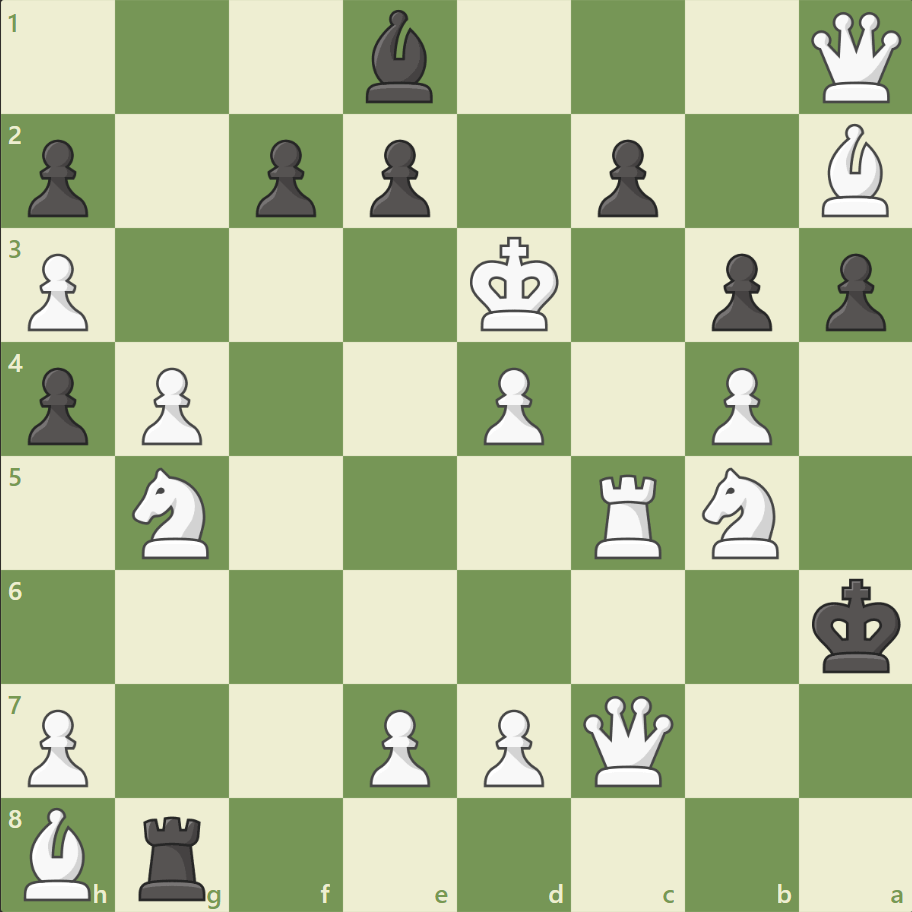B: (17, 801, 101, 904), (812, 120, 896, 222)
K: (465, 231, 565, 339)
N: (124, 461, 222, 564), (692, 461, 789, 564)
P: (474, 700, 549, 791), (20, 700, 95, 791), (701, 359, 776, 450), (474, 359, 549, 450), (133, 359, 208, 450), (20, 246, 95, 337), (361, 700, 435, 791)
Q: (578, 690, 677, 789), (805, 9, 904, 108)
R: (587, 466, 670, 563)
b: (358, 6, 442, 109)
k: (806, 571, 906, 679)
p: (20, 359, 95, 450), (701, 246, 776, 337), (247, 132, 322, 223), (20, 132, 95, 223), (815, 246, 889, 337), (588, 132, 662, 223), (361, 132, 435, 223)
r: (133, 806, 215, 904)
